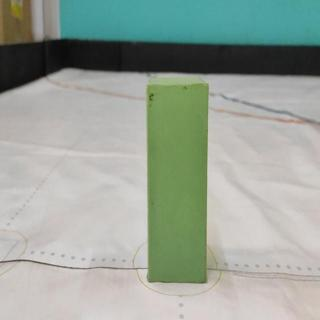greenbox: (148, 79, 209, 282)
